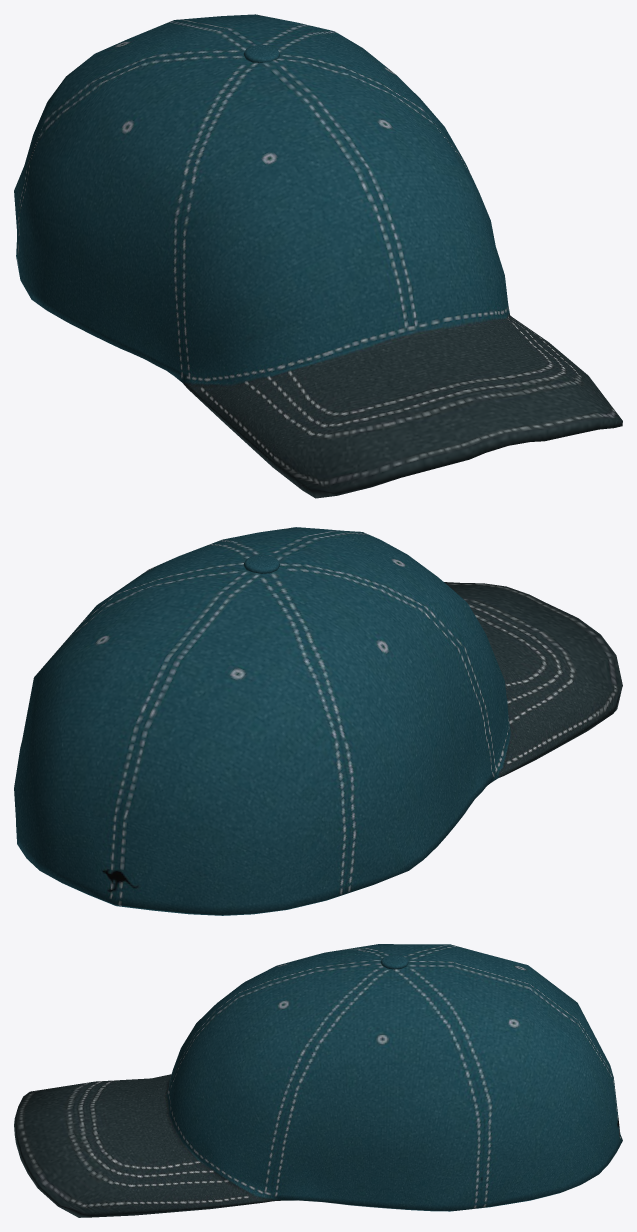
Rendered from baseball_hat.glb.
3 views of the same model, one above another, from view 1: azimuth 30°, elevation 25°; view 2: azimuth 150°, elevation 25°; view 3: azimuth 270°, elevation 25° (orthographic). The views are drawn at different scales.
Visible parts, largest first — view 1: defaultMaterial; view 2: defaultMaterial; view 3: defaultMaterial.
Boxes of the visible parts, left/top/right/bottom form: defaultMaterial: left=14, top=14, right=622, bottom=498; defaultMaterial: left=14, top=527, right=622, bottom=915; defaultMaterial: left=14, top=944, right=622, bottom=1217.
Size of the model in its own units: 1.11 by 0.7292 by 2.
Materials: 1 (1 with a texture image).
